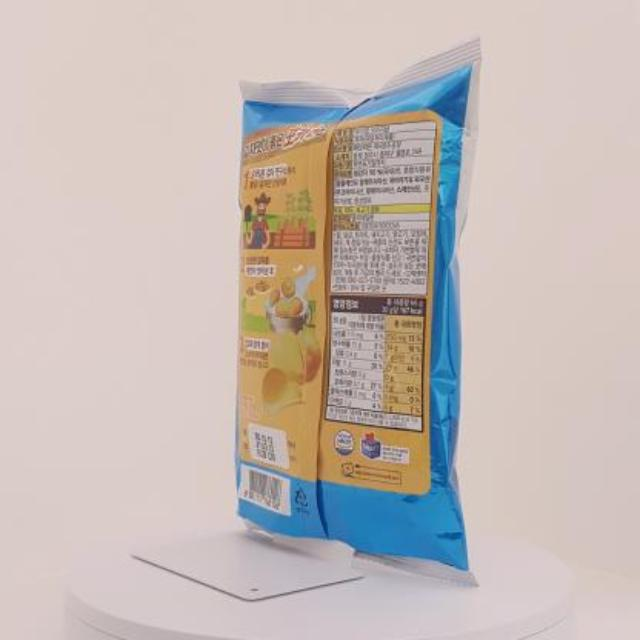snack_bag: (222, 24, 514, 594)
